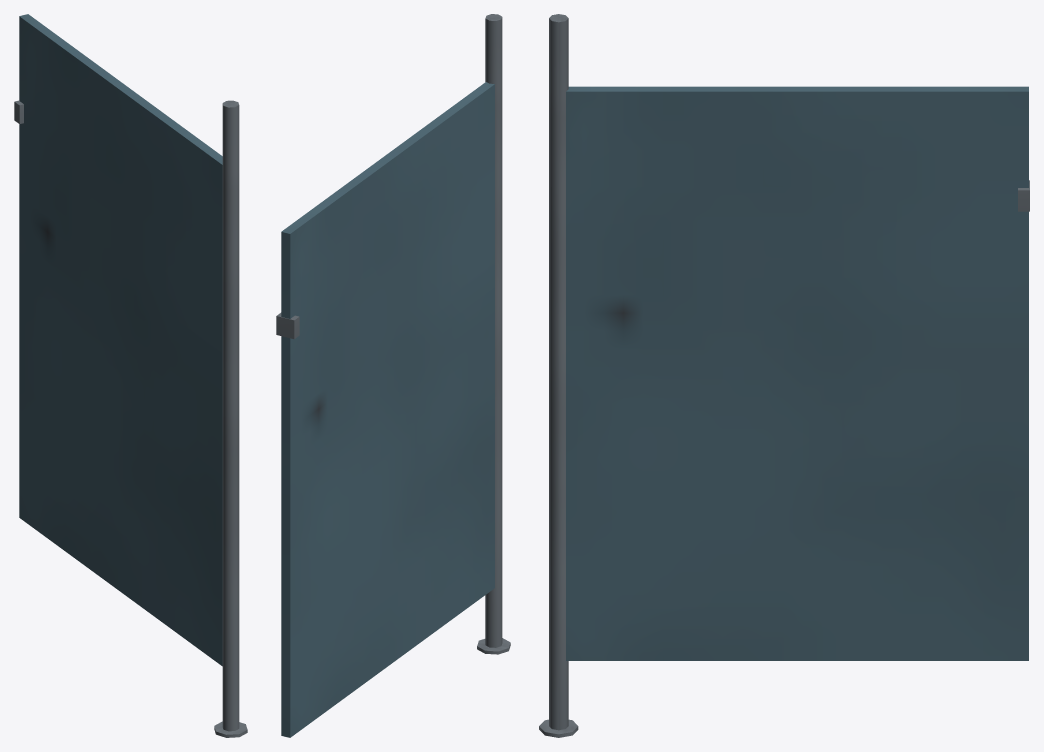
File: shower_partition.fbx
3 renders of one model, left to right at view 1: azimuth 30°, elevation 25°; view 2: azimuth 150°, elevation 25°; view 3: azimuth 270°, elevation 25°, orthographic. The views are drawn at different scales.
Parts seen in each view (by area): view 1: shower_partition; view 2: shower_partition; view 3: shower_partition.
Part boxes in pixels (<box>): shower_partition: <box>14,14,247,737</box>; shower_partition: <box>276,14,510,737</box>; shower_partition: <box>539,14,1029,737</box>.
Bounding box in the file's own units: 0.1 × 2 × 1.25.
Materials: 1 (1 with a texture image).
